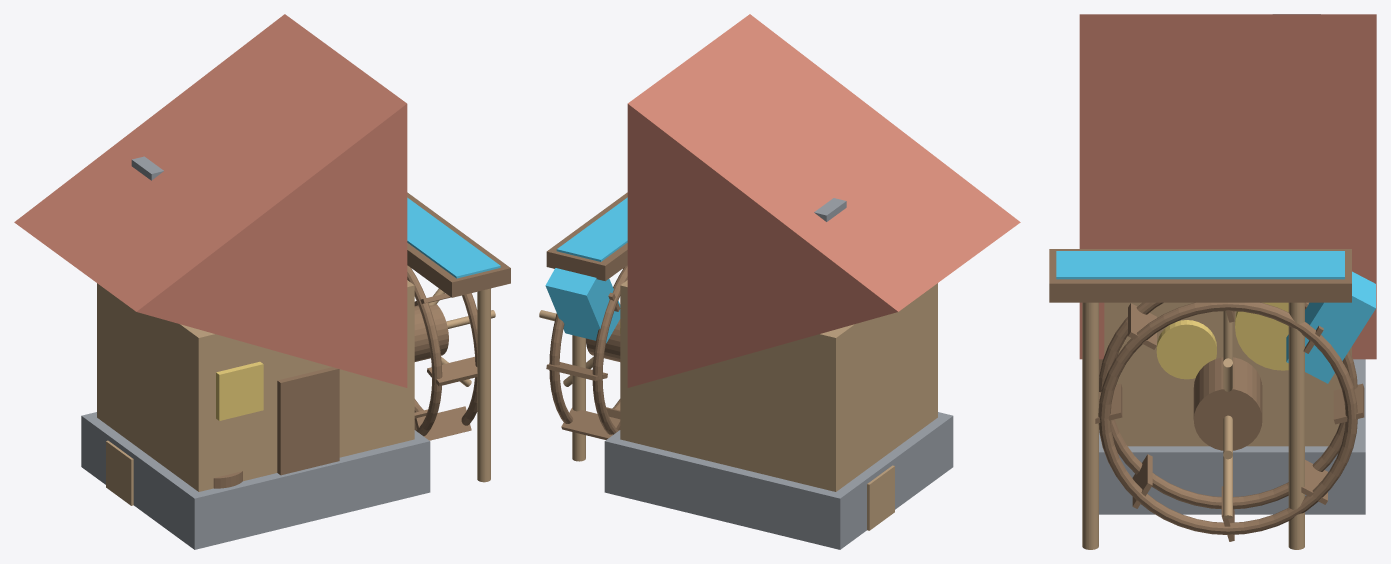
Rendered from watermill.glb.
3 renders of one model, left to right at view 1: azimuth 30°, elevation 25°; view 2: azimuth 150°, elevation 25°; view 3: azimuth 270°, elevation 25°, orthographic. The views are drawn at different scales.
Visible parts, largest first — view 1: Roof, CabinBody, Foundation, WaterWheel, Door, WaterStream, FlumeTrough, Cylinder, Window, ResourceCrate; view 2: Roof, CabinBody, Foundation, WaterWheel, WaterfallSplash, WaterStream, FlumeTrough, ResourceCrate, Cylinder.001; view 3: Roof, WaterWheel, CabinBody, Foundation, WaterStream, FlumeTrough, Cylinder, Cylinder.001, WaterfallSplash, GearSmall, GearLarge.
Part boxes in pixels (x1=…): Roof: x1=14, y1=14, x2=407, y2=387; CabinBody: x1=97, y1=280, x2=414, y2=491; Foundation: x1=81, y1=412, x2=430, y2=549; WaterWheel: x1=407, y1=265, x2=495, y2=440; Door: x1=277, y1=367, x2=339, y2=475; WaterStream: x1=407, y1=197, x2=500, y2=278; FlumeTrough: x1=407, y1=192, x2=510, y2=297; Cylinder: x1=477, y1=288, x2=490, y2=482; Window: x1=216, y1=361, x2=263, y2=420; ResourceCrate: x1=106, y1=440, x2=133, y2=505; Roof: x1=627, y1=14, x2=1020, y2=387; CabinBody: x1=620, y1=280, x2=937, y2=491; Foundation: x1=604, y1=412, x2=953, y2=549; WaterWheel: x1=539, y1=265, x2=627, y2=439; WaterfallSplash: x1=545, y1=268, x2=620, y2=343; WaterStream: x1=556, y1=197, x2=627, y2=261; FlumeTrough: x1=546, y1=192, x2=627, y2=281; ResourceCrate: x1=867, y1=465, x2=894, y2=530; Cylinder.001: x1=572, y1=335, x2=585, y2=461; Roof: x1=1079, y1=14, x2=1376, y2=359; WaterWheel: x1=1095, y1=302, x2=1364, y2=541; CabinBody: x1=1104, y1=302, x2=1351, y2=446; Foundation: x1=1099, y1=359, x2=1365, y2=514; WaterStream: x1=1056, y1=251, x2=1344, y2=279; FlumeTrough: x1=1049, y1=249, x2=1351, y2=302; Cylinder: x1=1082, y1=302, x2=1098, y2=549; Cylinder.001: x1=1288, y1=302, x2=1304, y2=549; WaterfallSplash: x1=1286, y1=271, x2=1375, y2=383; GearSmall: x1=1156, y1=320, x2=1216, y2=379; GearLarge: x1=1235, y1=302, x2=1288, y2=370.
Bounding box in the file's own units: 4.26 × 3.89 × 2.38.
